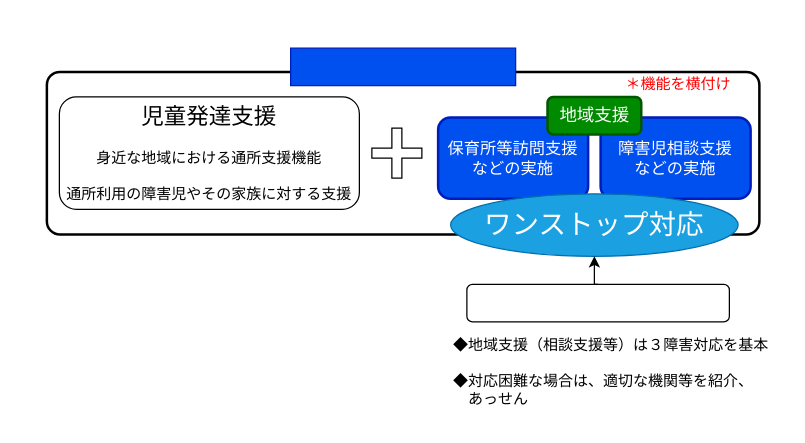
Some shapes in this 805 by 443 pixel diagram are drawn without their labels. The box of each missing label's shape, as (x1, y1, x2, y2) in pixels:
児童発達支援センター: (289, 47, 516, 86)
利用者の利便性を考慮: (466, 283, 729, 322)
